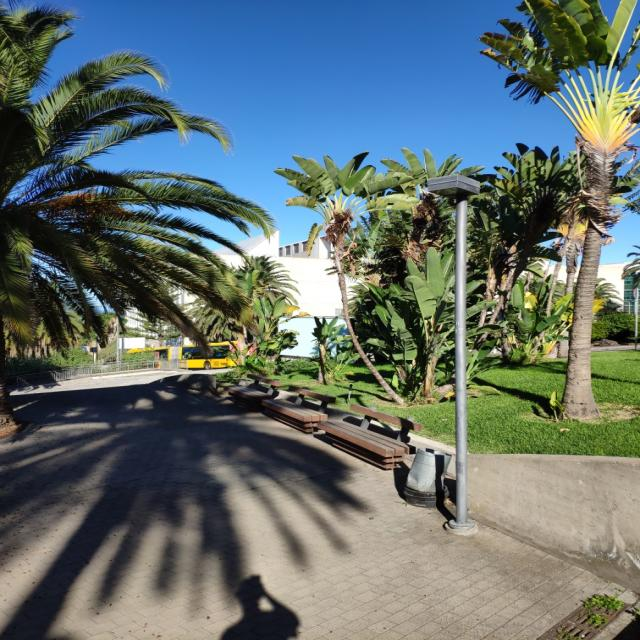Palm-Trees: (236, 254, 290, 299)
